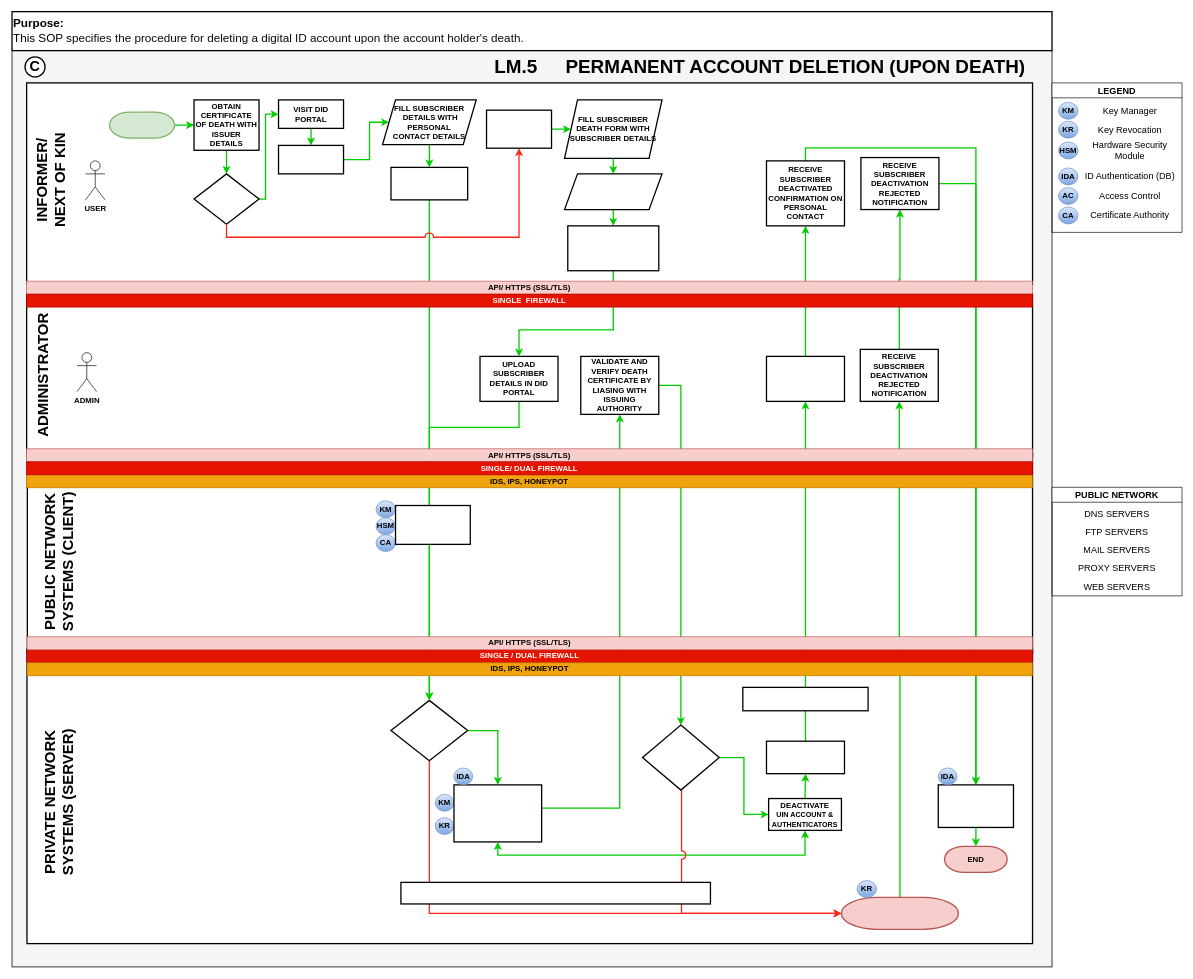
Image size: 1193x979. Some labels were removed from this diagram. Each missing label, with the centre of its shape:
"CLICK REPORT DEATH" goes at point (311, 159).
"EXCEPTION AND ERROR HANDLING" goes at point (555, 892).
"FILL PERSONAL CONTACT DETAILS" goes at point (613, 191).
"IF DEATH CERTIFICATE VALID & VERIFIED" goes at point (681, 757).
"IF ONLINE" goes at point (226, 199).
"IF SUBSCRIBER UIN FOUND" goes at point (429, 730).
"INFORM ALL THE AUTHENTICATED VERIFIERS" goes at point (805, 757).
"LOGS THE PROCESS AND STATUS" goes at point (975, 806).
"MASK & ENCRYPT SUBSCRIBER DETAILS" goes at point (433, 525).
"NOTIFICATION GENERATOR" goes at point (805, 698).
"RECEIVE SUBSCRIBER DEACTIVATED NOTIFICATION" goes at point (805, 378).
"START" goes at point (142, 124).
"STORE SUBSCRIBER DEATH CERTIFICATE IN UIN ACCOUNT WITH ENCRYPTION AND HASHING" goes at point (497, 813).
"SUBMIT FILLED FORM WITH DEATH CERTIFICATE" goes at point (613, 248).
"TERMINATE PROCESS: REJECT REQUEST" goes at point (899, 913).
"UPLOAD DEATH CERTIFICATE" goes at point (429, 183).
"VISIT DID/3RD PARTY ACCOUNT" goes at point (519, 129).
